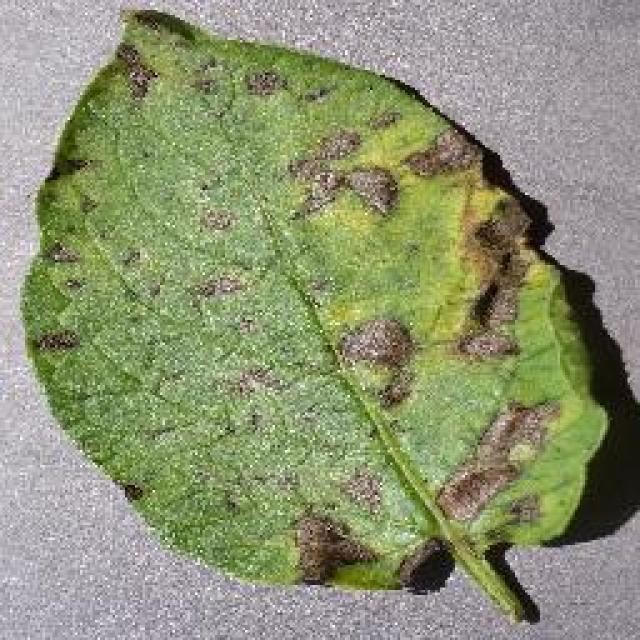Potato: (18, 5, 610, 623)
